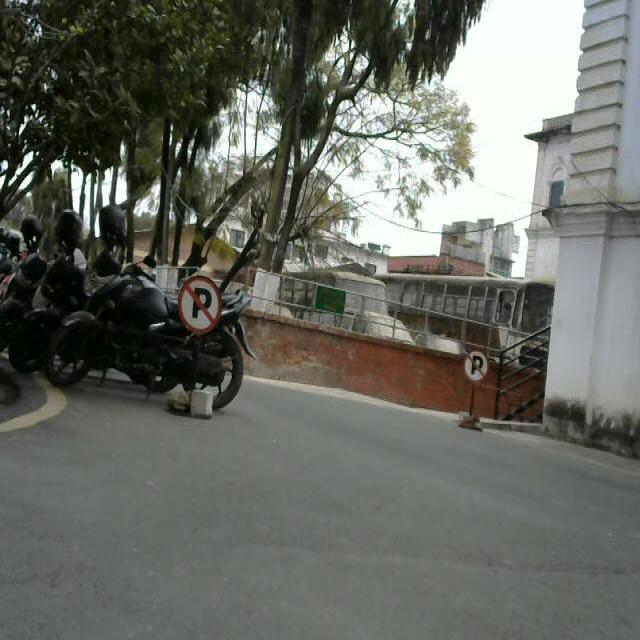Bike: (0, 220, 274, 421)
NoParking: (178, 277, 223, 428), (463, 345, 487, 431)
Road: (0, 397, 640, 640)
trees: (4, 2, 484, 213)
